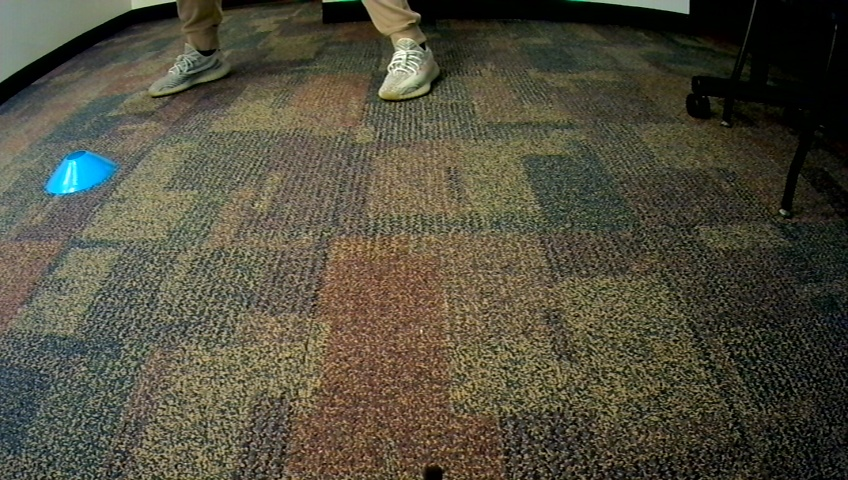cone: (42, 150, 121, 199)
